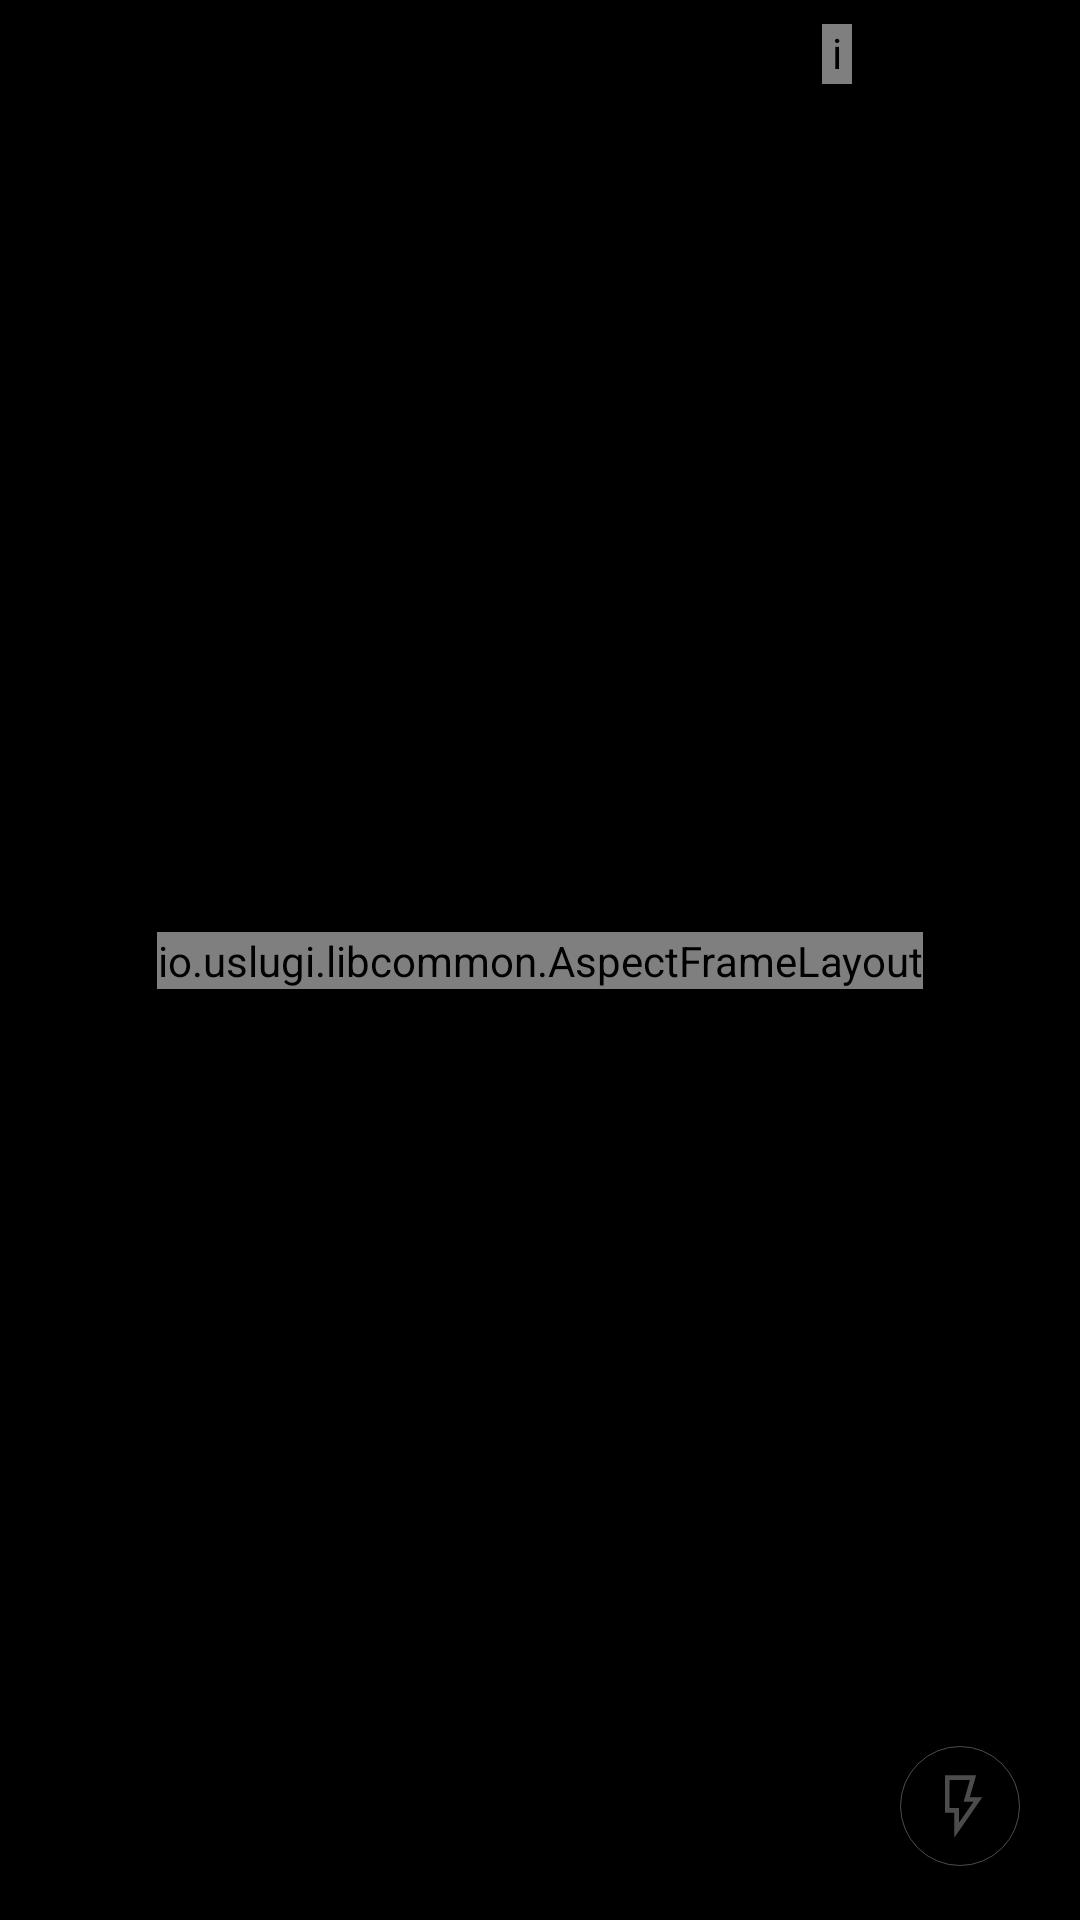

Point at icon controls on the screen. Image size 1080x1920, points as [x,y].
flash on: [960,1806]
